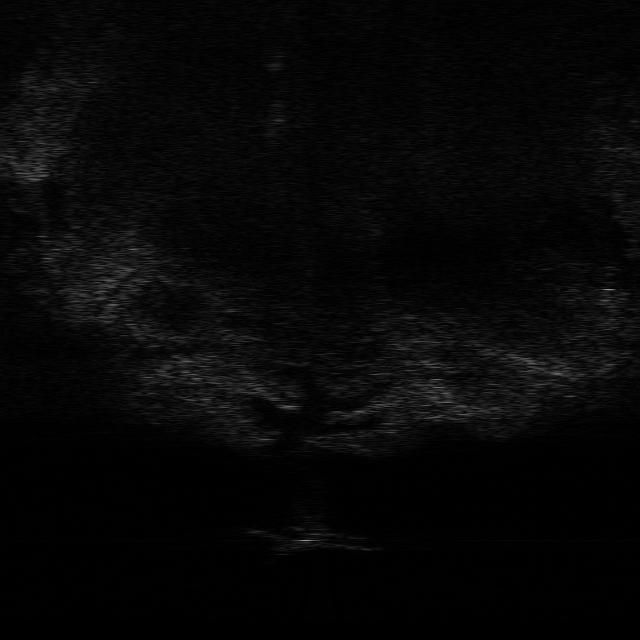plane: (244, 524, 376, 555)
